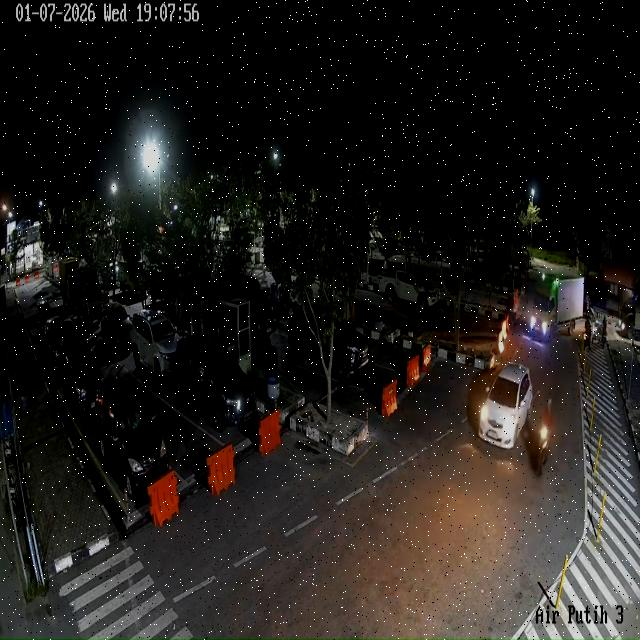Golongan IVA: (96, 376, 169, 500), (173, 336, 256, 432), (288, 305, 369, 381), (478, 362, 533, 449), (59, 336, 103, 418), (130, 309, 178, 384), (101, 301, 131, 346), (43, 316, 68, 370), (36, 300, 52, 340)
Golongan IVB: (378, 270, 439, 312)
Golongan VB: (529, 278, 584, 340), (66, 265, 108, 322)
